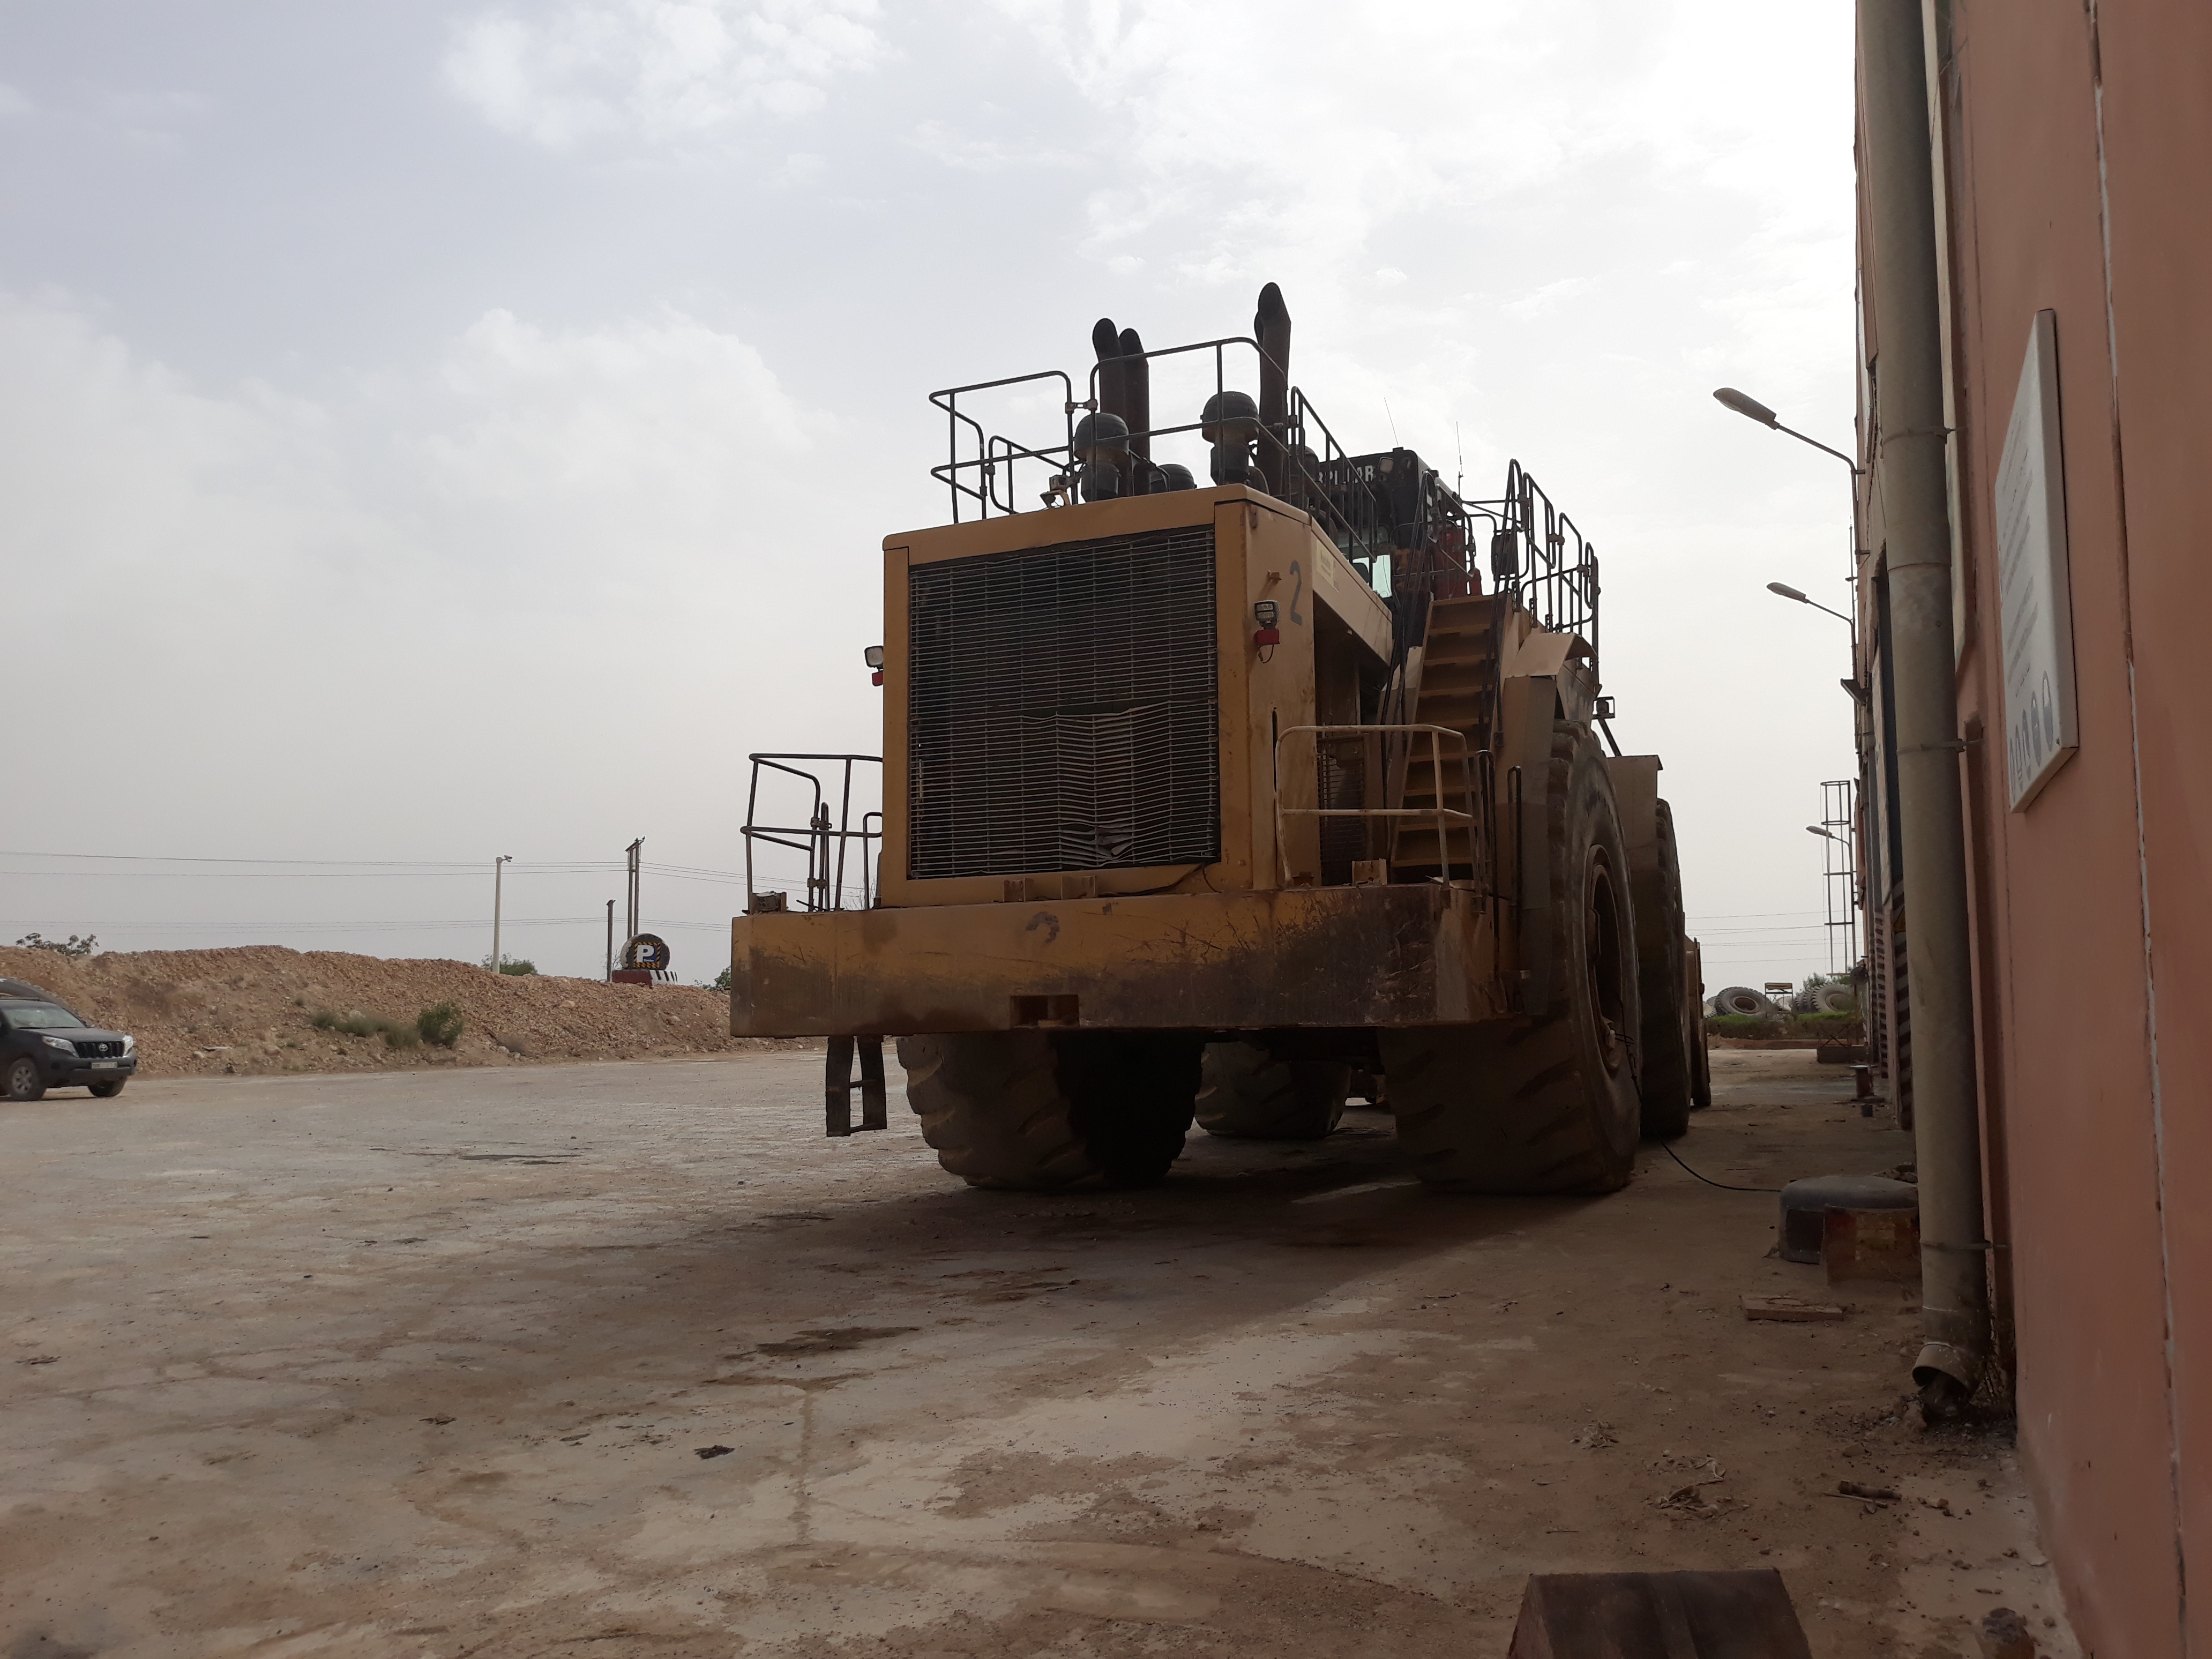chargeuse: (674, 366, 1737, 1213)
